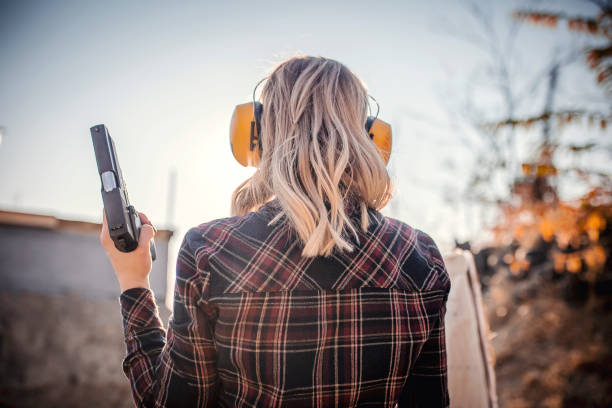gun: (89, 122, 157, 262)
